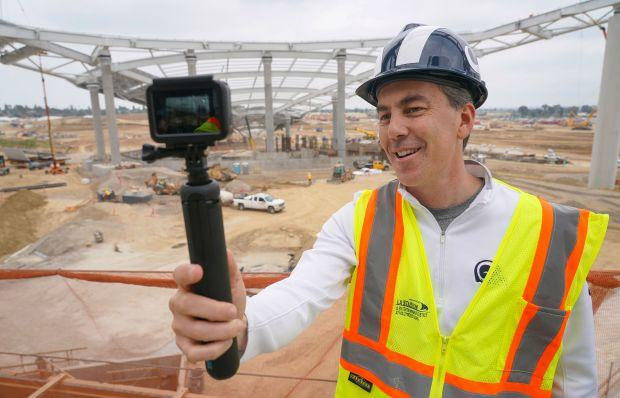helmet: (355, 23, 491, 108)
